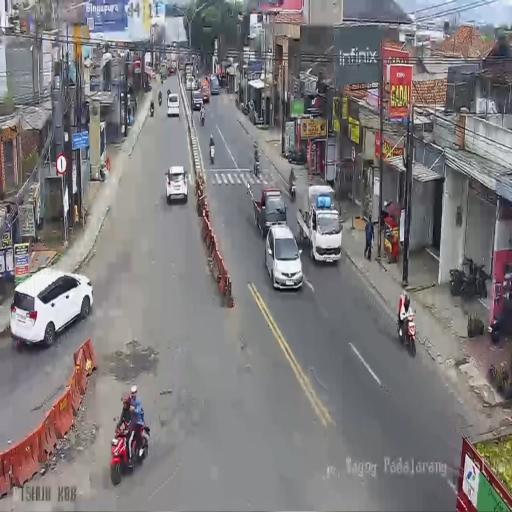3: (160, 61, 167, 80)
car: (10, 266, 93, 345), (265, 223, 302, 290), (254, 186, 288, 239), (165, 164, 188, 204), (167, 92, 180, 117), (192, 90, 204, 110), (210, 75, 220, 96), (201, 80, 210, 103), (186, 76, 195, 90), (168, 64, 176, 76), (152, 70, 158, 81)
truck: (110, 411, 150, 485), (490, 291, 512, 344), (398, 302, 416, 357), (286, 146, 306, 166), (209, 141, 215, 164), (241, 101, 249, 116), (200, 111, 205, 127), (150, 102, 154, 116)
